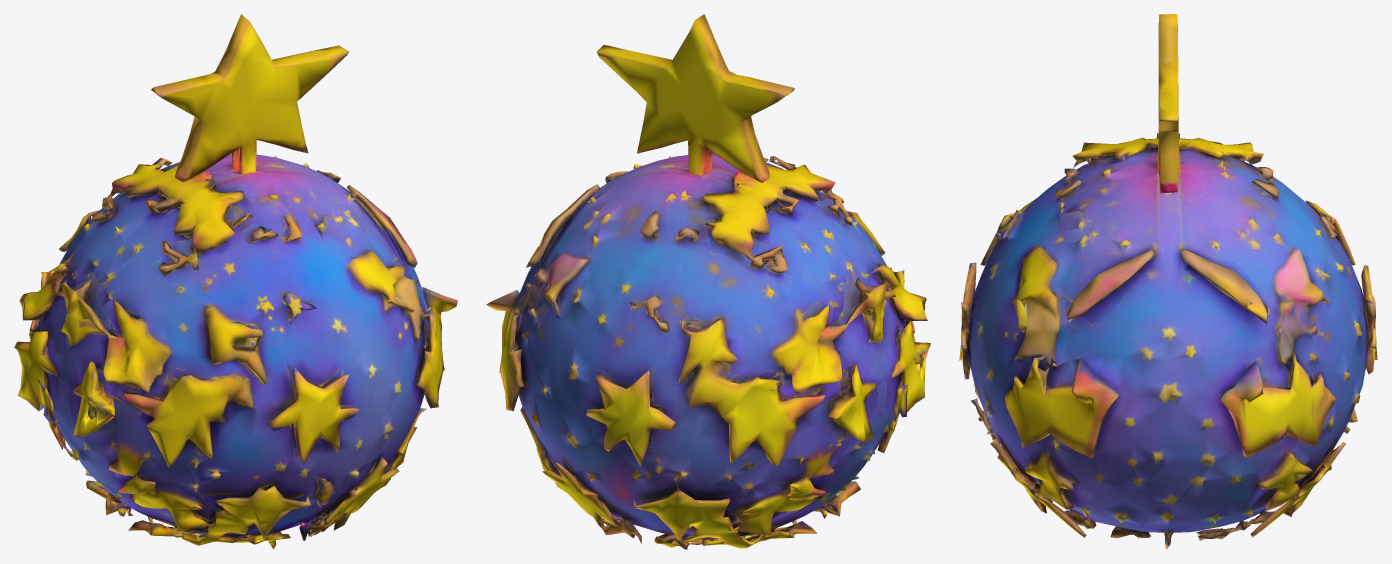
Rendered from glitterbomb02.glb.
3 renders of one model, left to right at view 1: azimuth 30°, elevation 25°; view 2: azimuth 150°, elevation 25°; view 3: azimuth 270°, elevation 25°, orthographic.
Parts seen in each view (by area): view 1: Mesh_0; view 2: Mesh_0; view 3: Mesh_0.
Part boxes in pixels (x1,y1,x2,y2): Mesh_0: (14,14,457,549); Mesh_0: (486,14,930,549); Mesh_0: (959,14,1377,549).
Bounding box in the file's own units: 1.38 × 1.8 × 1.33.
Materials: 1 (1 with a texture image).
